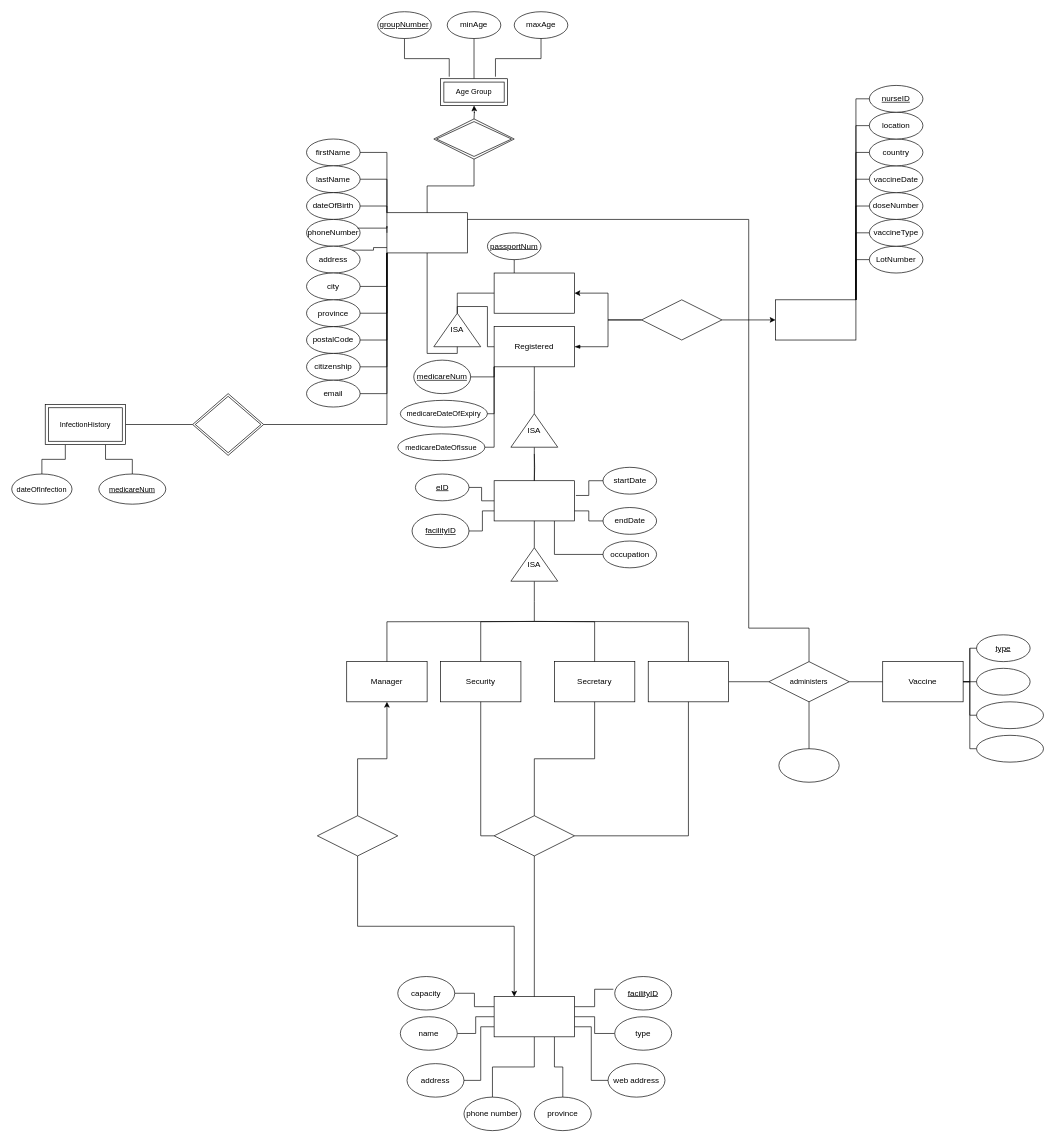
The diagram is 1055 pixels wide and 1142 high, and some of its shapes have lost their labels. Here are the shapes that lost their labels. From the top down, the centre of each, then its label:
At (473,138): "BelongsTo".
At (426,232): "Person".
At (534,292): "Unregistered".
At (681,319): "hasBeenVaccinated".
At (815,319): "VaccineRecord".
At (228,424): "infectedBy".
At (534,500): "PublicHealthWorker".
At (688,681): "Nurse".
At (1003,681): "status".
At (1010,715): "dateOfApproval".
At (808,765): "vaccinatedDate".
At (1010,748): "dateOfSuspension".
At (357,835): "manages".
At (534,835): "worksAt".
At (534,1016): "Vaccination Facility".
